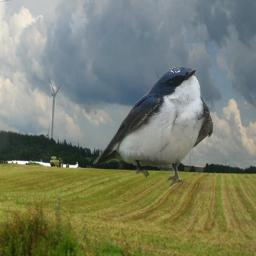Swallow: (93, 66, 214, 187)
